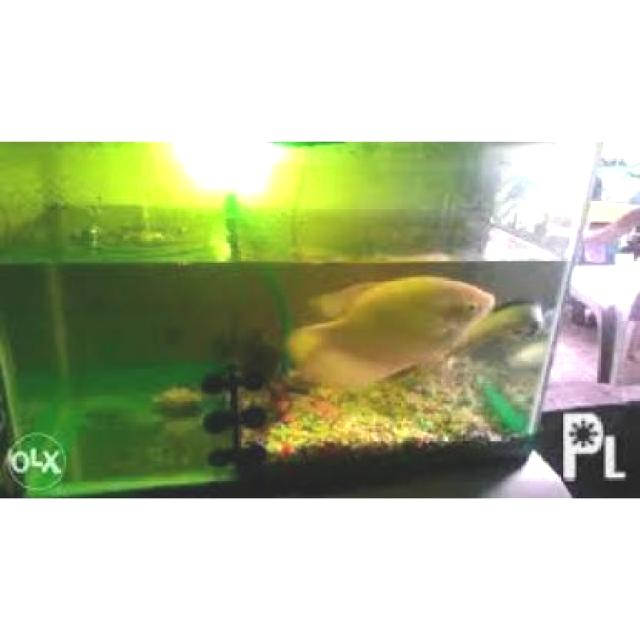gurame: (288, 270, 503, 392)
